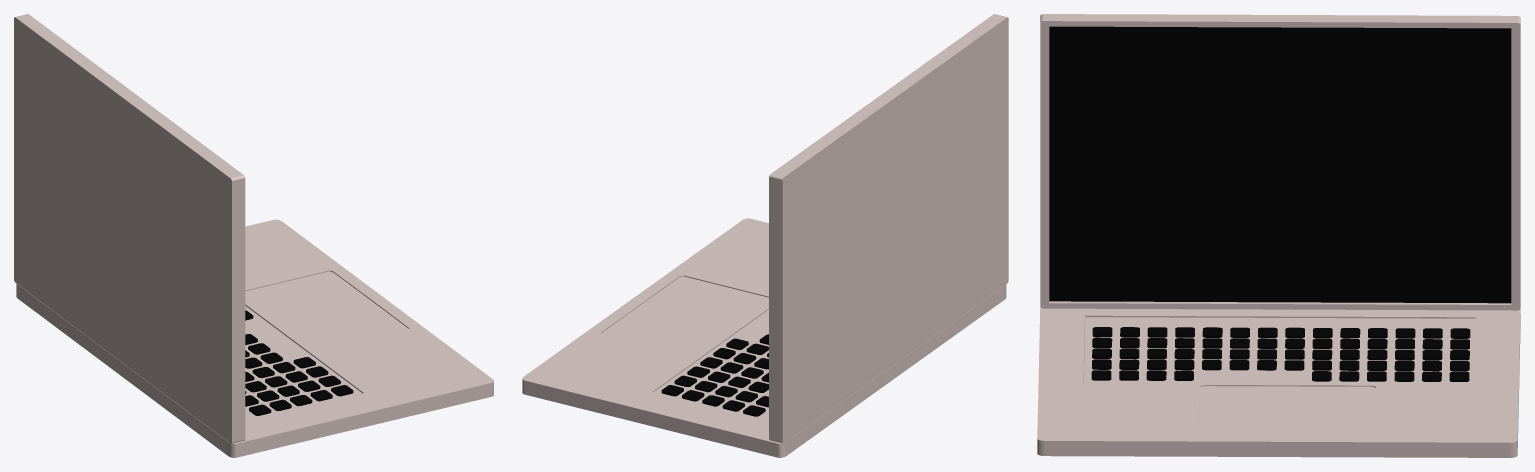
The model's file is Laptop.glb.
The picture shows the model from 3 angles, left to right: view 1: azimuth 30°, elevation 25°; view 2: azimuth 150°, elevation 25°; view 3: azimuth 270°, elevation 25°; orthographic projection. The views are drawn at different scales.
Visible parts, largest first — view 1: S1Laptop; view 2: S1Laptop; view 3: S1Laptop.
Boxes of the visible parts, <box> form: S1Laptop: <box>14,14,493,457</box>; S1Laptop: <box>522,14,1008,457</box>; S1Laptop: <box>1037,14,1520,457</box>.
Size of the model in its own units: 2.86 by 2.87 by 4.15.
